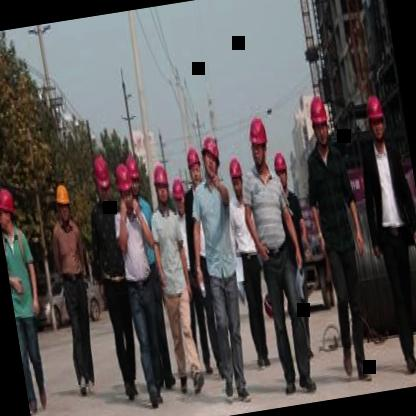helmet: (242, 110, 272, 170), (89, 150, 116, 209), (306, 95, 334, 151), (362, 92, 391, 146), (196, 130, 226, 182), (112, 162, 138, 216), (147, 162, 174, 212), (0, 180, 19, 240), (52, 180, 76, 226), (226, 154, 248, 204), (168, 172, 191, 218), (184, 144, 206, 192), (270, 146, 293, 190), (125, 152, 144, 197)
